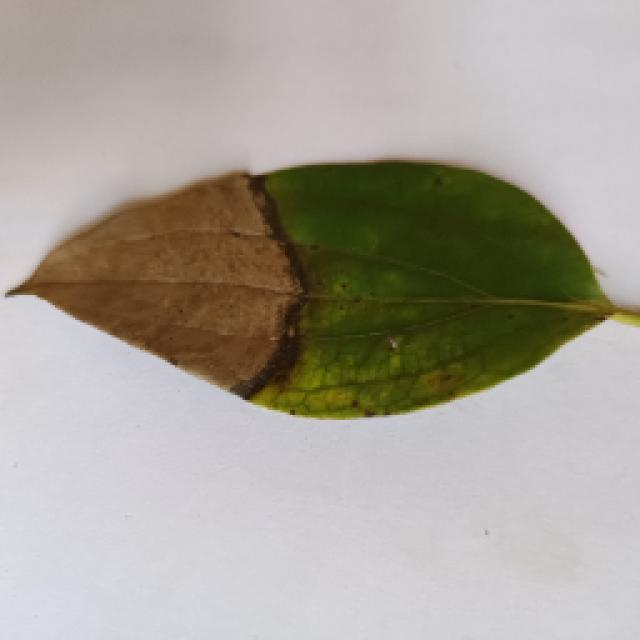footrot: (0, 140, 628, 432)
